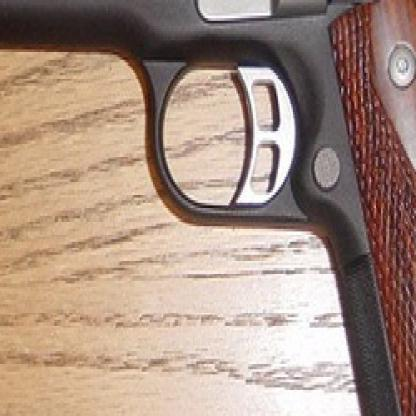gun: (0, 0, 306, 211)
